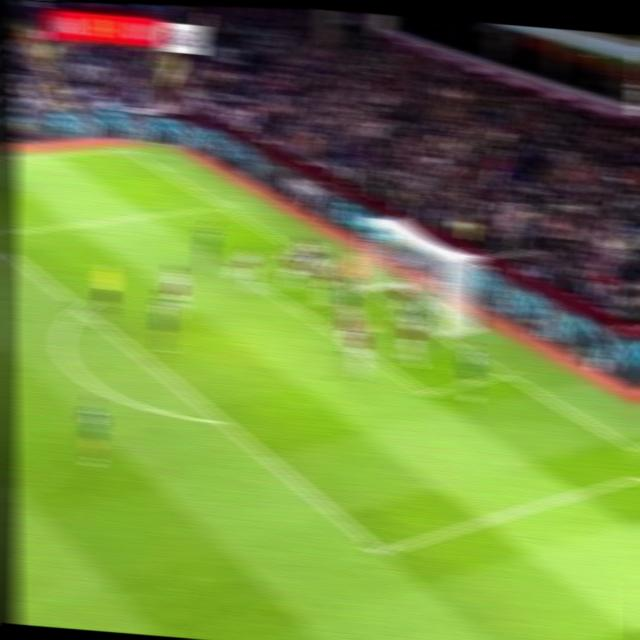bigarea_bottom_inner: (364, 533, 397, 568)
bigarea_top_outter: (211, 196, 233, 213)
bottom_arc_area_intersection: (206, 406, 237, 435)
corner: (113, 141, 141, 157)
smallarea_bottom_inner: (413, 377, 442, 407)
smallarea_bottom_outter: (492, 362, 517, 384)
smallarea_top_inner: (230, 264, 254, 281)
top_arc_area_intersection: (66, 293, 98, 323)
